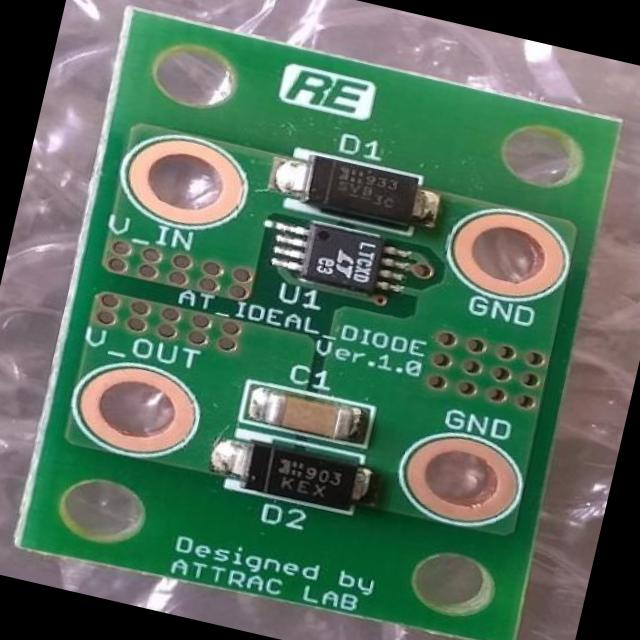IC: (290, 224, 405, 302)
capacitor: (253, 382, 356, 444)
diode: (288, 144, 424, 232), (231, 432, 353, 506)
